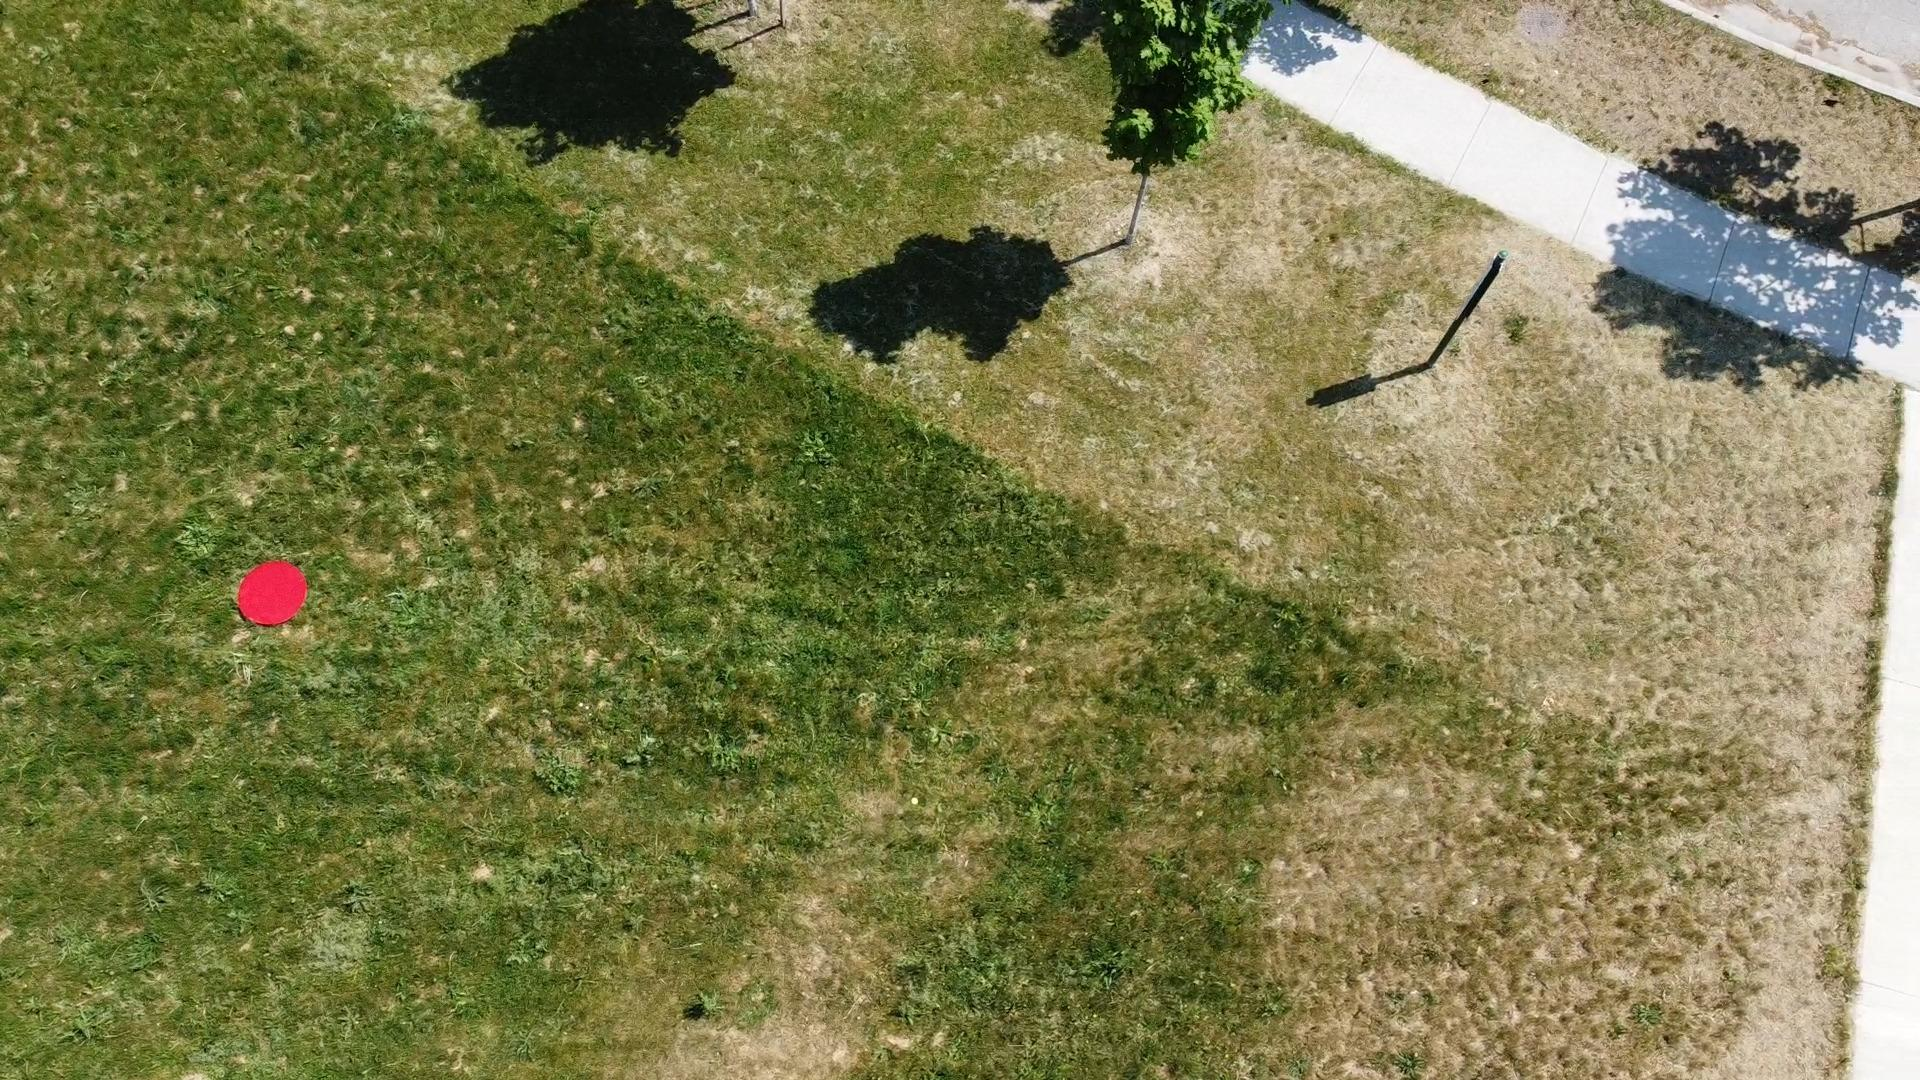Red: (235, 559, 310, 628)
